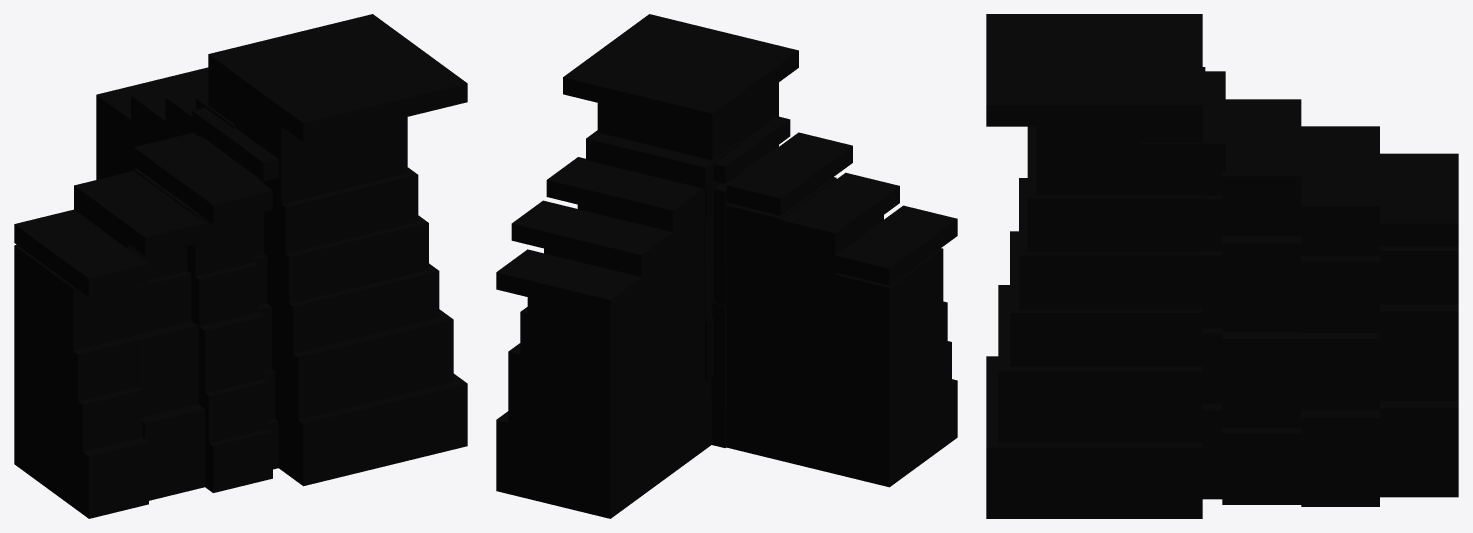
Rendered from IceCornerRock.obj.
3 renders of one model, left to right at view 1: azimuth 30°, elevation 25°; view 2: azimuth 150°, elevation 25°; view 3: azimuth 270°, elevation 25°, orthographic. The views are drawn at different scales.
Parts seen in each view (by area): view 1: IceCornerRock; view 2: IceCornerRock; view 3: IceCornerRock.
Boxes of the visible parts, x1,y1,x2,y2 form: IceCornerRock: (14, 14, 467, 518); IceCornerRock: (496, 14, 957, 518); IceCornerRock: (986, 14, 1458, 518).
Size of the model in its own units: 12 by 11.6 by 12.
